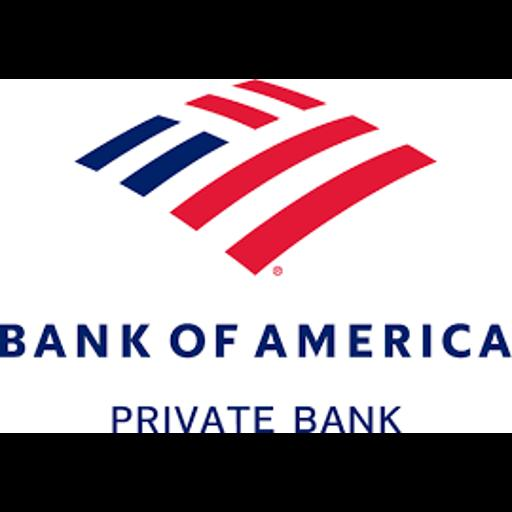Bank of America: (0, 79, 512, 433)
